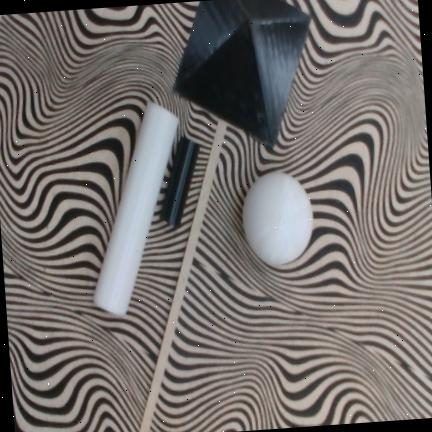Cilindro: (92, 102, 180, 317), (160, 137, 200, 229)
Esfera: (243, 171, 312, 265)
Piramide: (173, 0, 311, 148)
